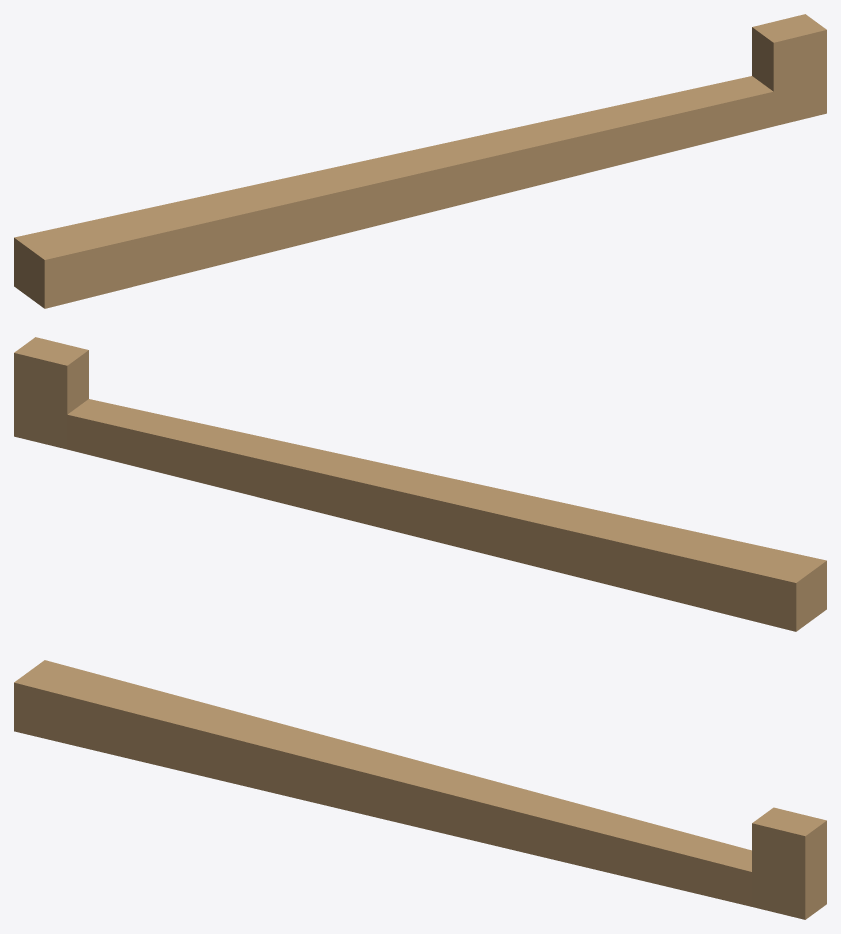
Rendered from prop-hoop-stretch-lever-hc1.fbx.
The picture shows the model from 3 angles, top to bottom: view 1: azimuth 30°, elevation 25°; view 2: azimuth 150°, elevation 25°; view 3: azimuth 330°, elevation 25°; orthographic projection.
Parts seen in each view (by area): view 1: prop-hoop-stretch-lever-hc1; view 2: prop-hoop-stretch-lever-hc1; view 3: prop-hoop-stretch-lever-hc1.
Boxes of the visible parts, x1,y1,x2,y2 form: prop-hoop-stretch-lever-hc1: (14,14,826,308); prop-hoop-stretch-lever-hc1: (14,337,826,631); prop-hoop-stretch-lever-hc1: (14,660,826,919).
Bounding box in the file's own units: 59 × 6 × 4.
